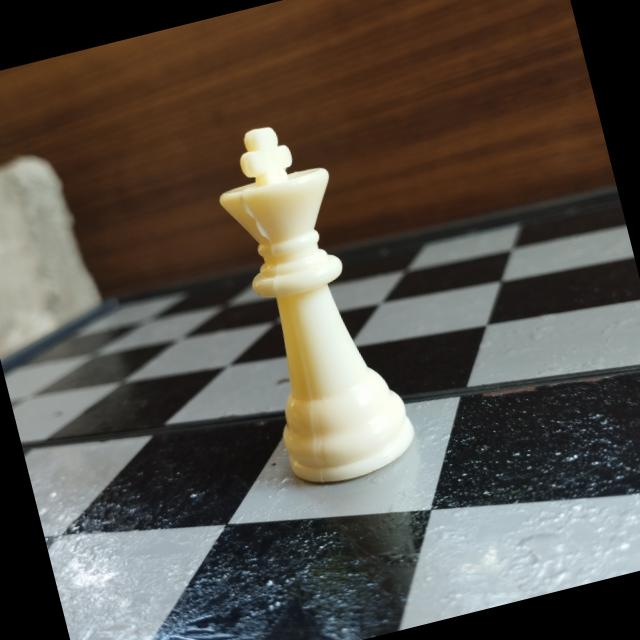White King: (188, 100, 432, 507)
